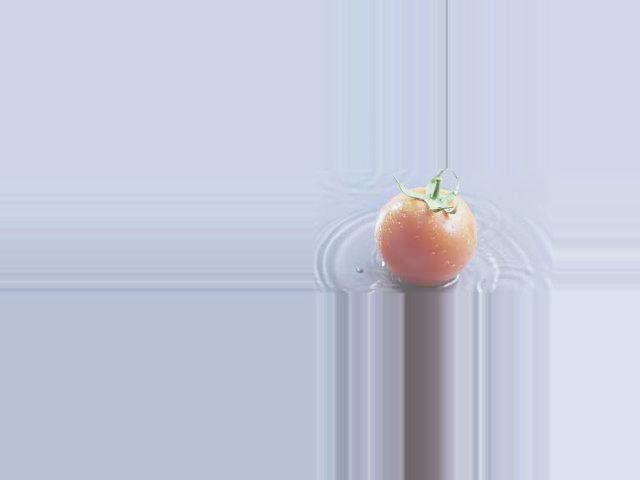tomato: (375, 188, 476, 286)
